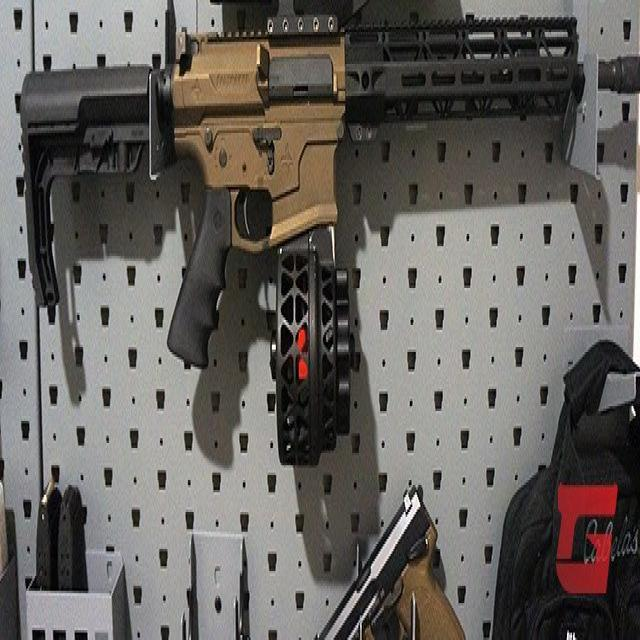HandGun: (317, 482, 466, 640)
Rifle: (17, 0, 640, 468)
